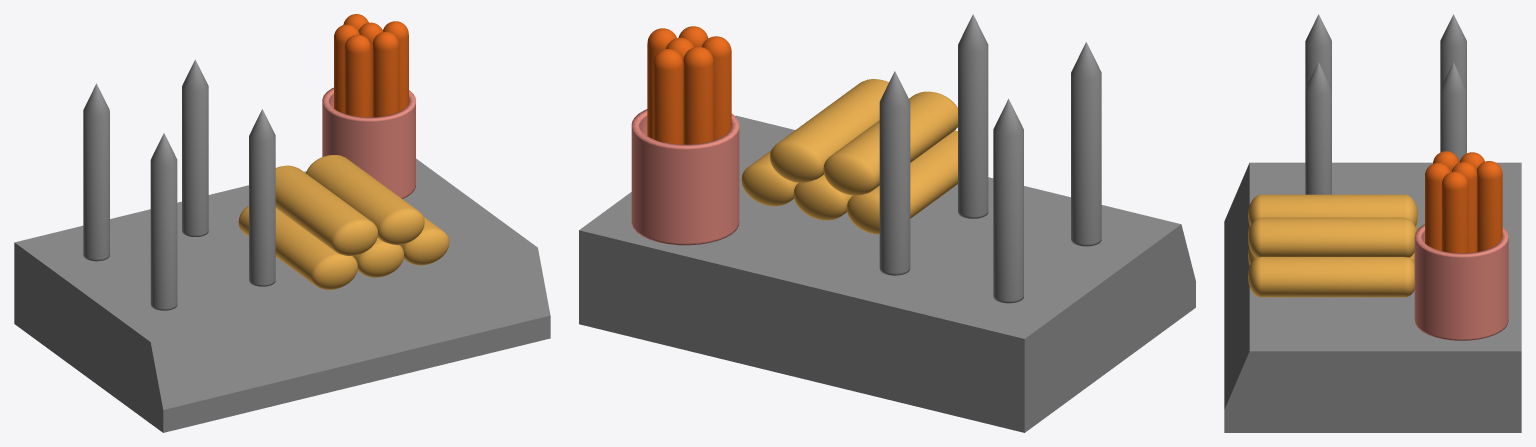
Rendered from HotDogMachine.fbx.
3 renders of one model, left to right at view 1: azimuth 30°, elevation 25°; view 2: azimuth 150°, elevation 25°; view 3: azimuth 270°, elevation 25°, orthographic. The views are drawn at different scales.
Visible parts, largest first — view 1: Machine, Cylinder.004, Sphere.010, Sphere.009, Cylinder.001, Cylinder, Cylinder.003, Cylinder.002, Sphere.006, Sphere, Sphere.003, Sphere.008 (+3 smaller); view 2: Machine, Cylinder.004, Cylinder.003, Cylinder.001, Cylinder.002, Cylinder, Sphere.009, Sphere.010, Sphere.006, Sphere.004, Sphere.005, Sphere.003 (+3 smaller); view 3: Machine, Cylinder.004, Sphere.008, Sphere.009, Sphere.010, Cylinder, Sphere.001, Sphere.005, Cylinder.003, Sphere, Cylinder.002, Cylinder.001 (+2 smaller).
Boxes of the visible parts, <box> form: Machine: <box>14,158,550,432</box>; Cylinder.004: <box>322,87,415,198</box>; Sphere.010: <box>275,165,378,255</box>; Sphere.009: <box>306,155,424,245</box>; Cylinder.001: <box>150,133,177,310</box>; Cylinder: <box>249,109,275,286</box>; Cylinder.003: <box>182,59,208,236</box>; Cylinder.002: <box>83,83,109,261</box>; Sphere.006: <box>238,205,357,289</box>; Sphere: <box>372,31,399,117</box>; Sphere.003: <box>344,34,371,117</box>; Sphere.008: <box>400,217,449,265</box>; Machine: <box>579,115,1195,432</box>; Cylinder.004: <box>631,109,739,245</box>; Cylinder.003: <box>879,71,910,275</box>; Cylinder.001: <box>1071,42,1101,246</box>; Cylinder.002: <box>993,99,1023,303</box>; Cylinder: <box>958,14,988,218</box>; Sphere.009: <box>770,79,888,182</box>; Sphere.010: <box>823,91,957,195</box>; Sphere.006: <box>846,130,957,234</box>; Sphere.004: <box>683,46,713,144</box>; Sphere.005: <box>653,49,683,144</box>; Sphere.003: <box>702,36,731,140</box>; Machine: <box>1224,162,1521,432</box>; Cylinder.004: <box>1414,224,1508,340</box>; Sphere.008: <box>1248,257,1414,297</box>; Sphere.009: <box>1248,217,1416,257</box>; Sphere.010: <box>1248,194,1417,226</box>; Cylinder: <box>1305,62,1331,194</box>; Sphere.001: <box>1441,171,1468,253</box>; Sphere.005: <box>1476,161,1502,251</box>; Cylinder.003: <box>1440,62,1466,161</box>; Sphere: <box>1425,162,1450,250</box>; Cylinder.002: <box>1440,14,1466,88</box>; Cylinder.001: <box>1305,14,1331,88</box>.
Bounding box in the file's own units: 253 × 158 × 168.
